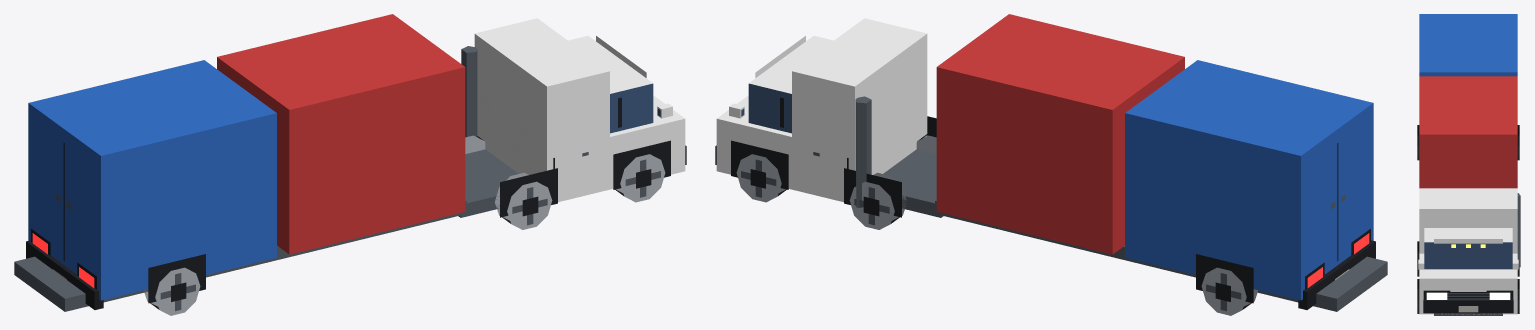
Rendered from semi_container.glb.
3 renders of one model, left to right at view 1: azimuth 30°, elevation 25°; view 2: azimuth 150°, elevation 25°; view 3: azimuth 270°, elevation 25°, orthographic. The views are drawn at different scales.
Visible parts, largest first — view 1: semi_container; view 2: semi_container; view 3: semi_container.
Part boxes in pixels (box(x1,y1,x2,y2)): semi_container: box(14, 14, 686, 315); semi_container: box(715, 14, 1387, 315); semi_container: box(1417, 14, 1520, 315).
Size of the model in its own units: 0.9778 by 0.267 by 0.2126.
